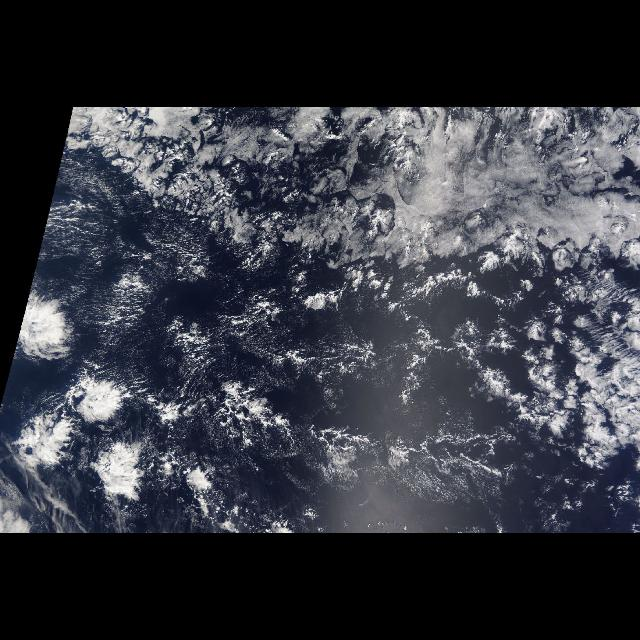Flower: (65, 108, 640, 470), (10, 284, 150, 518)
Gravel: (174, 374, 536, 502)
Sugar: (72, 236, 508, 532)
